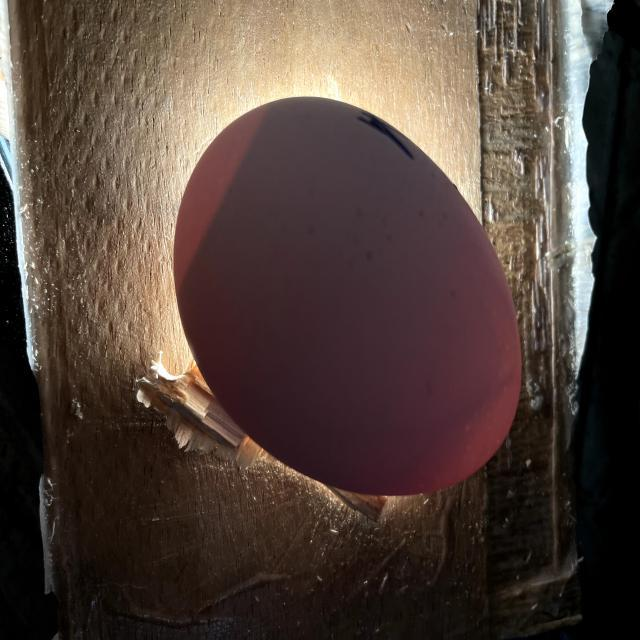Eggs: (173, 96, 522, 496)
